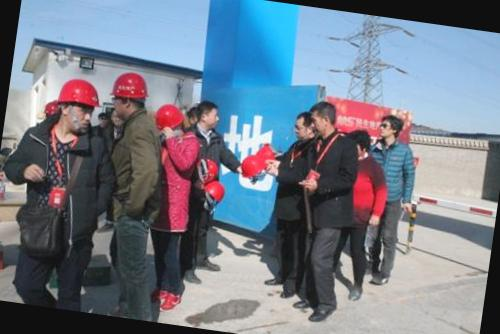no_helmet: (304, 100, 344, 140), (344, 124, 381, 162), (193, 97, 227, 132), (376, 110, 406, 140), (290, 109, 316, 142)
